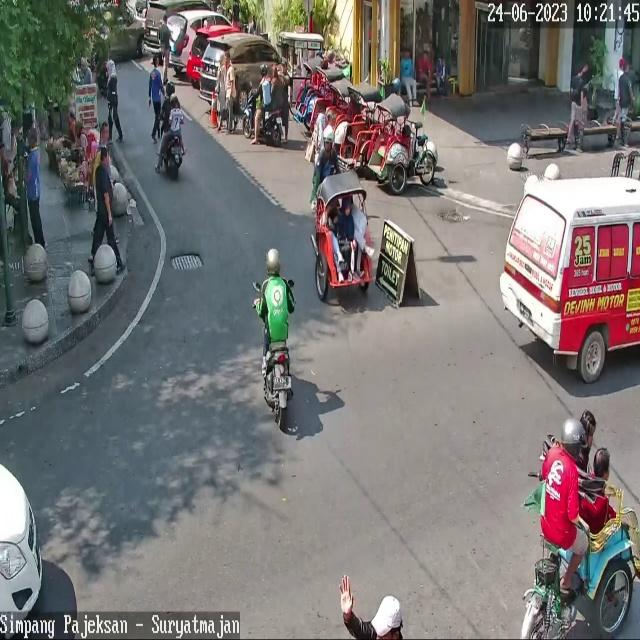bus: (262, 342, 292, 428), (240, 87, 281, 147), (160, 135, 184, 180)
motorcycle: (498, 177, 640, 384), (0, 459, 42, 640), (201, 34, 281, 104), (85, 0, 144, 71), (164, 9, 233, 67), (144, 0, 212, 54), (186, 24, 242, 82)
